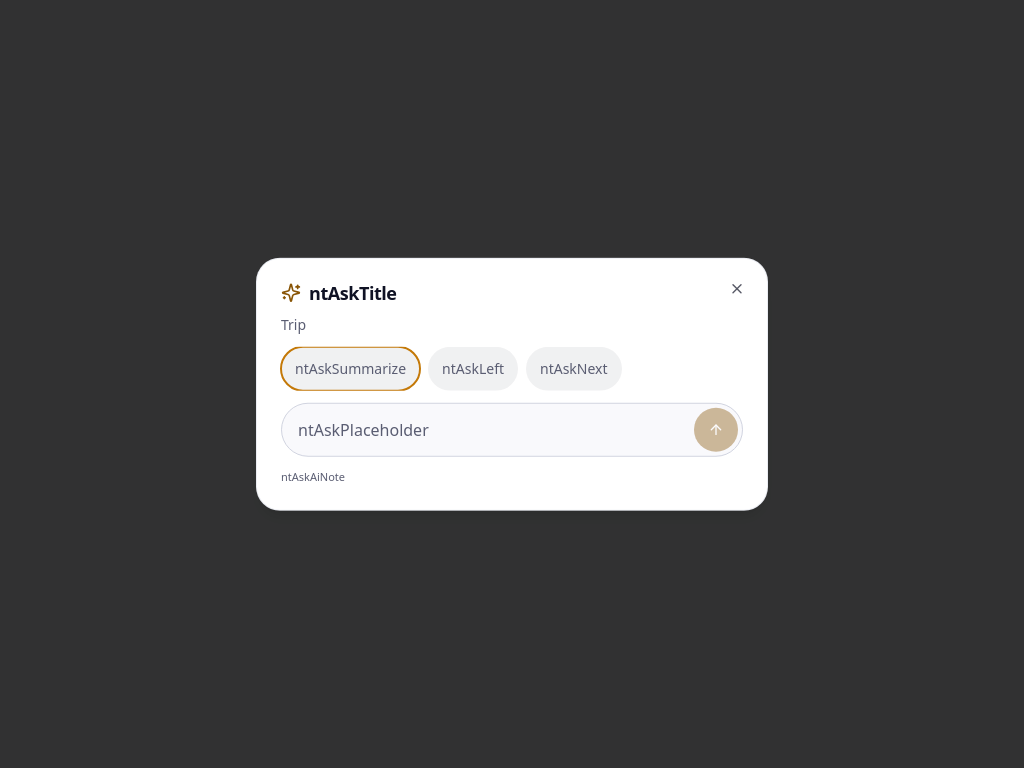
it: a suggestion asks straight away, and a follow-up carries the earlier turn
Click the button "ntAskLeft" at (473, 369), box [428,347,518,391]
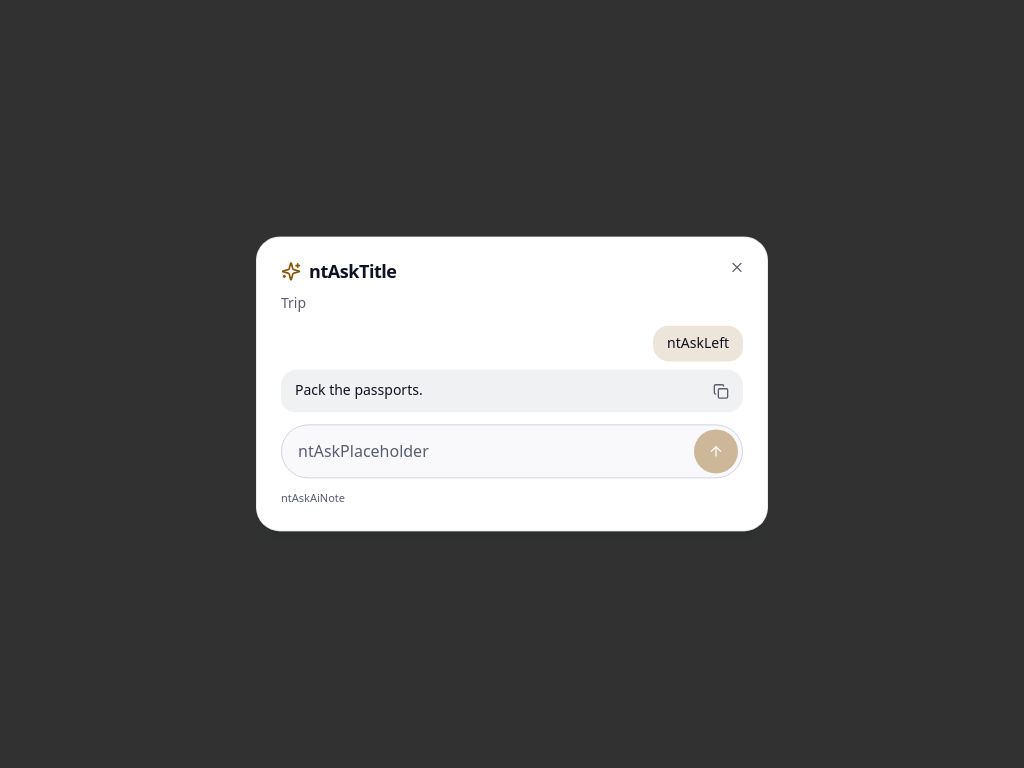
Expected: the text "Pack the passports." is shown, [295,380,423,399]
Type "Only that?" into the field with placeholder "ntAskPlaceholder" at (492, 451), box [298,429,686,473]
Then press Enter
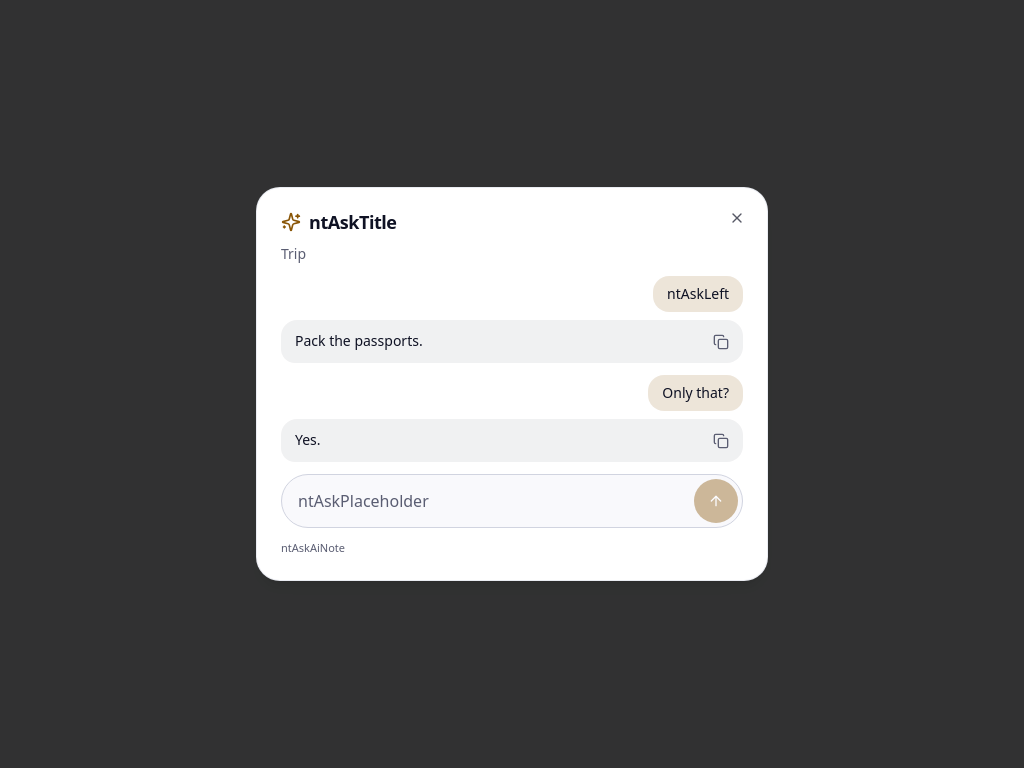
Expected: the text "Yes." is shown, [295,430,321,449]
